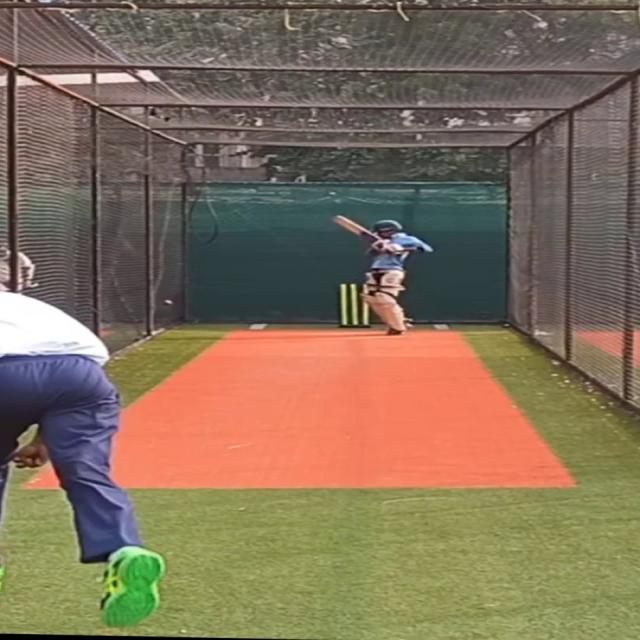stump: (337, 282, 371, 329)
